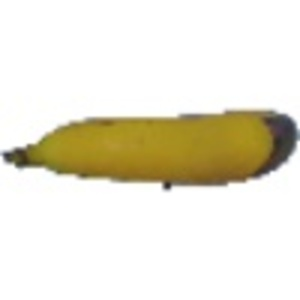banana: (1, 105, 295, 197)
